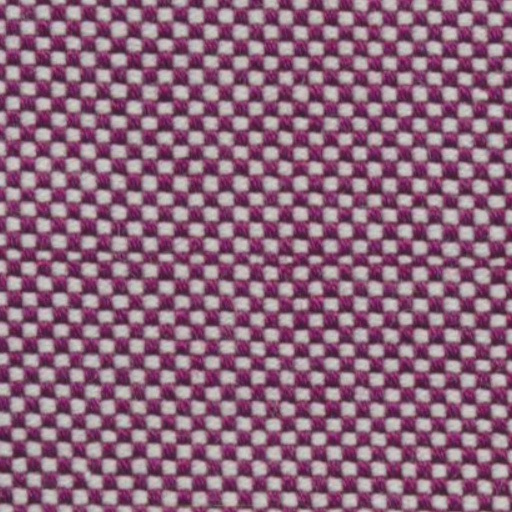TuoSha: (8, 231, 492, 295)
